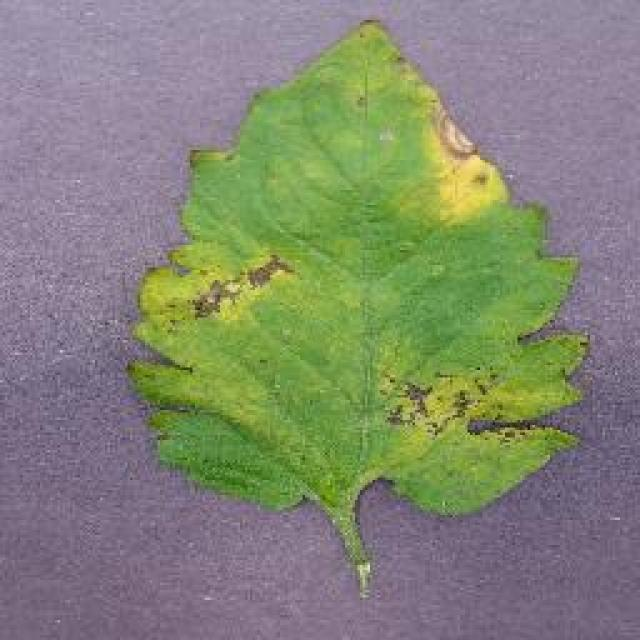Tomato target spot leaf: (128, 15, 594, 527)
